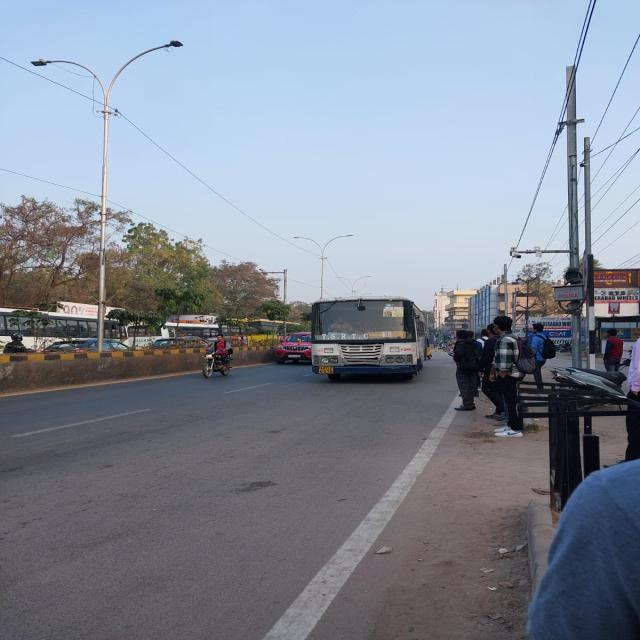Bus: (310, 294, 419, 378)
